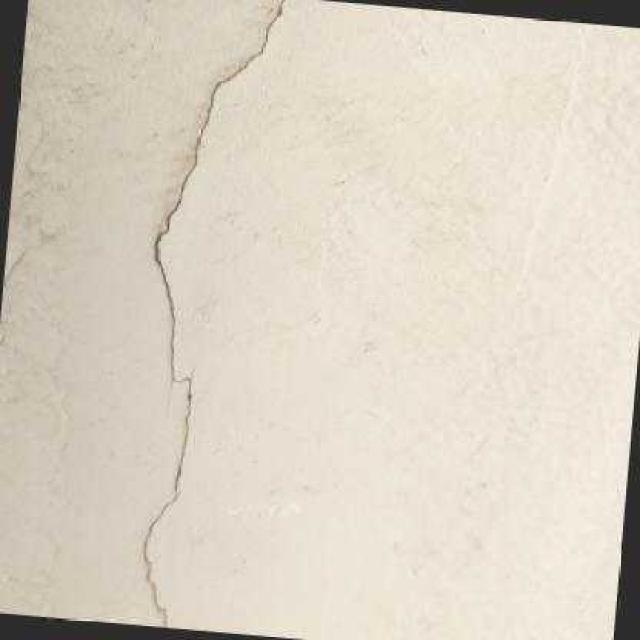D00: (143, 0, 282, 628)
